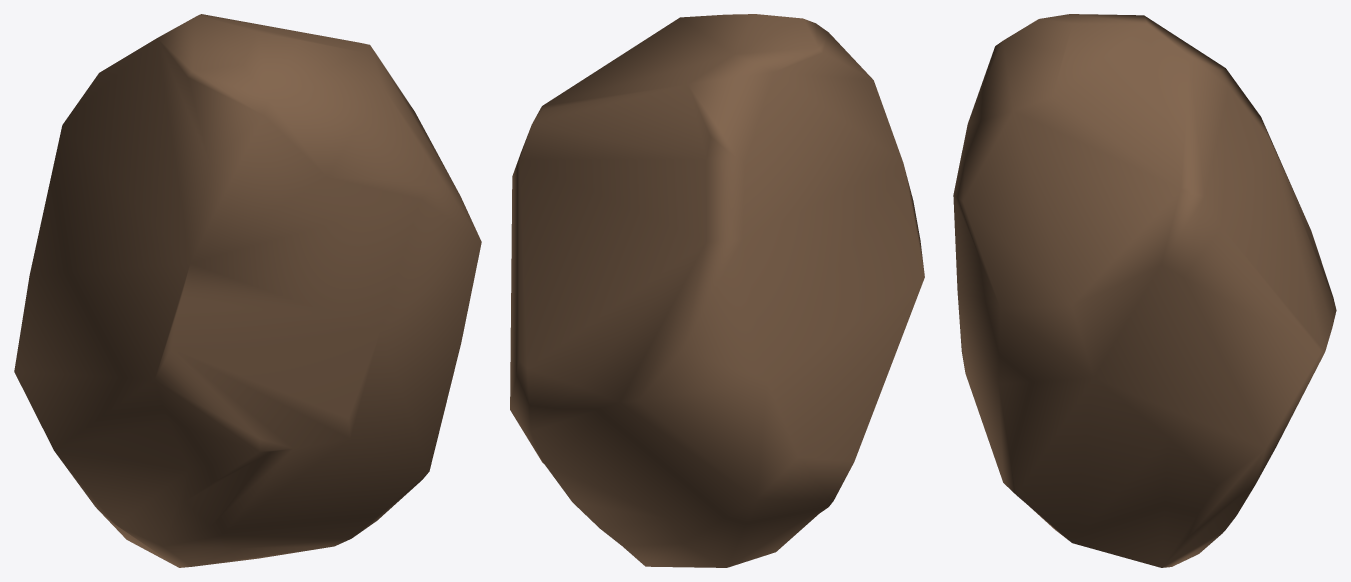
File: SM_rock02_low.fbx
3 views of the same model, side by side, from view 1: azimuth 30°, elevation 25°; view 2: azimuth 150°, elevation 25°; view 3: azimuth 270°, elevation 25° (orthographic). The views are drawn at different scales.
Visible parts, largest first — view 1: polySurface531; view 2: polySurface531; view 3: polySurface531.
Boxes of the visible parts, x1,y1,x2,y2 form: polySurface531: [14, 14, 481, 567]; polySurface531: [510, 14, 924, 567]; polySurface531: [953, 14, 1336, 567].
Bounding box in the file's own units: 94.37 × 142 × 95.82.
